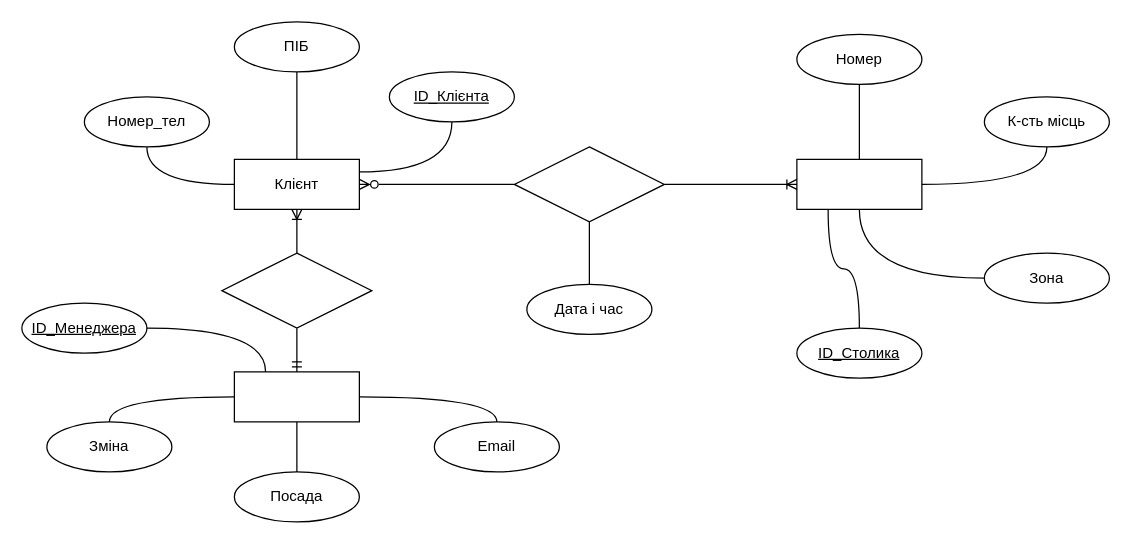
This 1131x544 diagram has some shape labels left out. The box of each missing label's shape, as (x1, y1, x2, y2) in pixels:
Бронює: (513, 146, 664, 222)
Консультує: (221, 252, 372, 328)
Менеджер: (233, 371, 359, 422)
Столик: (796, 158, 922, 209)
